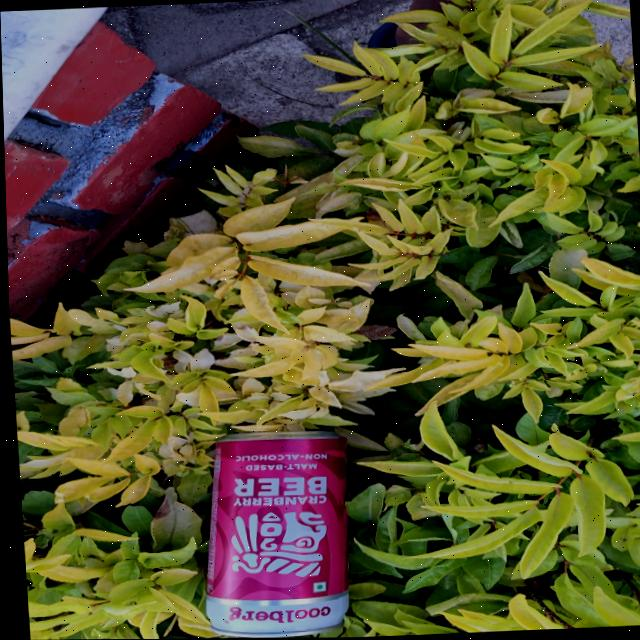Coolberg: (198, 429, 339, 636)
